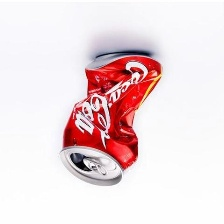can: (56, 46, 166, 188)
